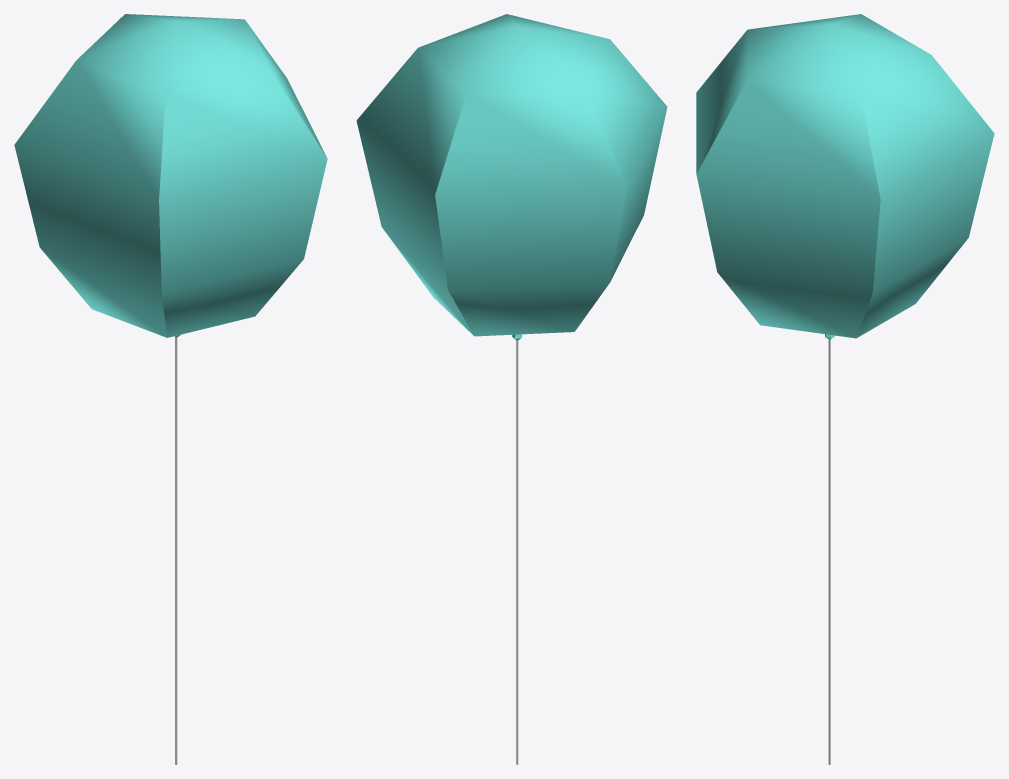
Rendered from BallonBleu.fbx.
The picture shows the model from 3 angles, left to right: view 1: azimuth 30°, elevation 25°; view 2: azimuth 150°, elevation 25°; view 3: azimuth 270°, elevation 25°; orthographic projection.
Parts seen in each view (by area): view 1: Ballon2; view 2: Ballon2; view 3: Ballon2.
Boxes of the visible parts, x1=… form: Ballon2: x1=14, y1=14, x2=327, y2=764; Ballon2: x1=356, y1=14, x2=667, y2=764; Ballon2: x1=696, y1=14, x2=994, y2=764.
Bounding box in the file's own units: 0.8341 × 2.17 × 0.7932.
